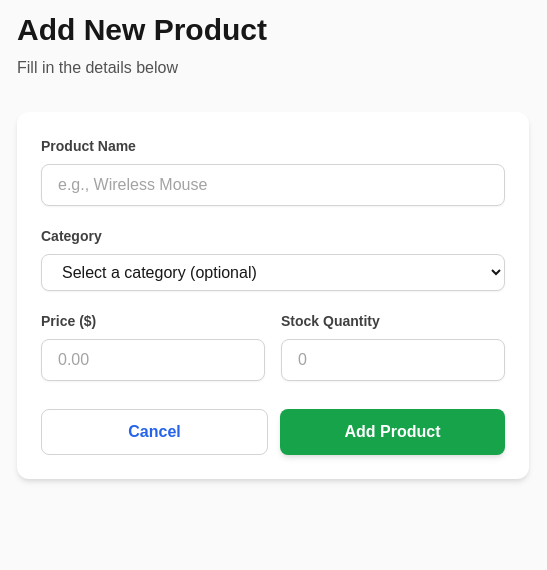
Test: AddProduct Page › should display error message on product creation failure
Type "Test Product" into the field with placeholder "e.g., Wireless Mouse" at (273, 185), box [41,164,505,206]
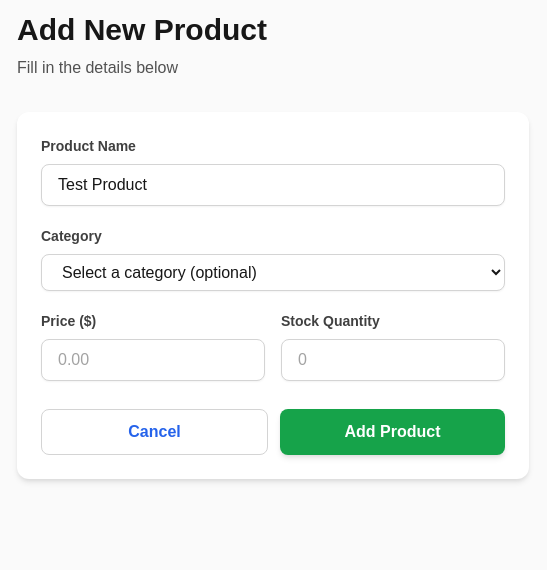
Type "99.99" into the number field with placeholder "0.00" at (153, 360), box [41,339,265,381]
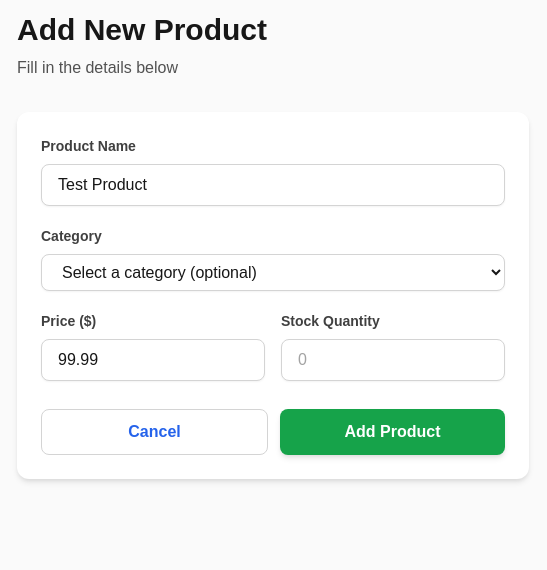
Type "10" into the number field with placeholder "0" at (393, 360), box [281,339,505,381]
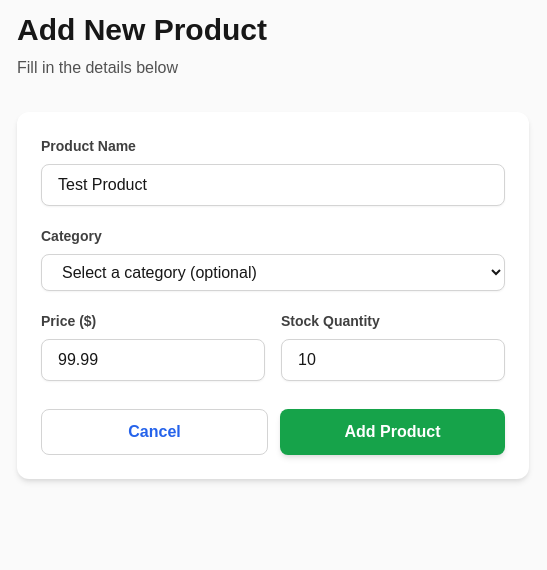
Click the button "Add Product" at (392, 432), box [280,409,505,455]
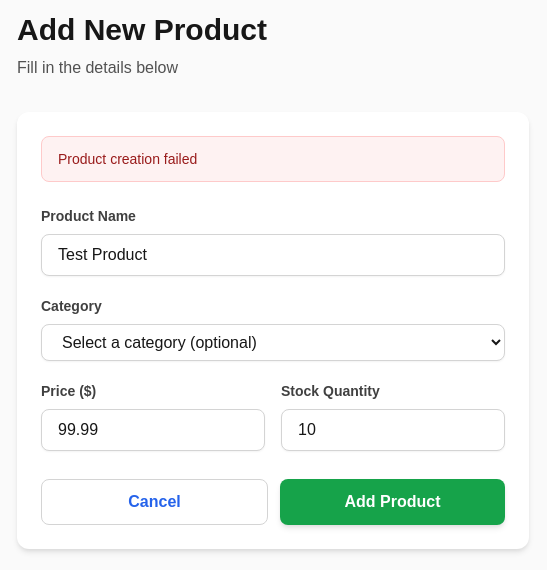
Expected: the text "Product creation failed" is shown, [41,136,505,182]
